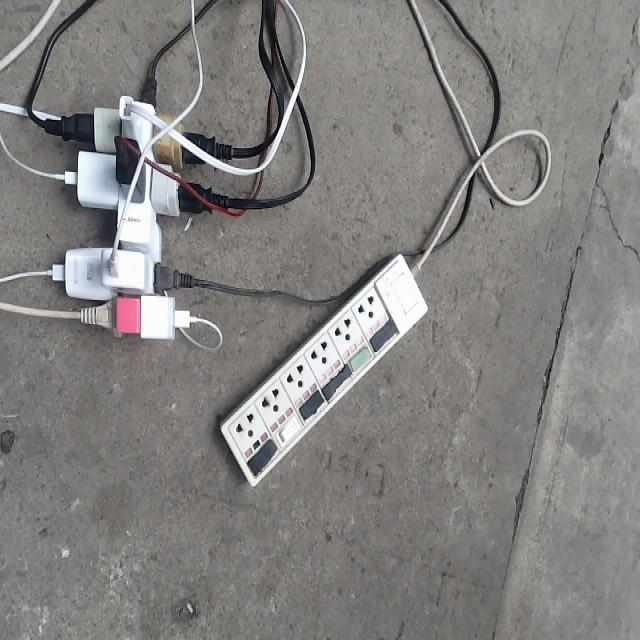-: (49, 92, 206, 345)
